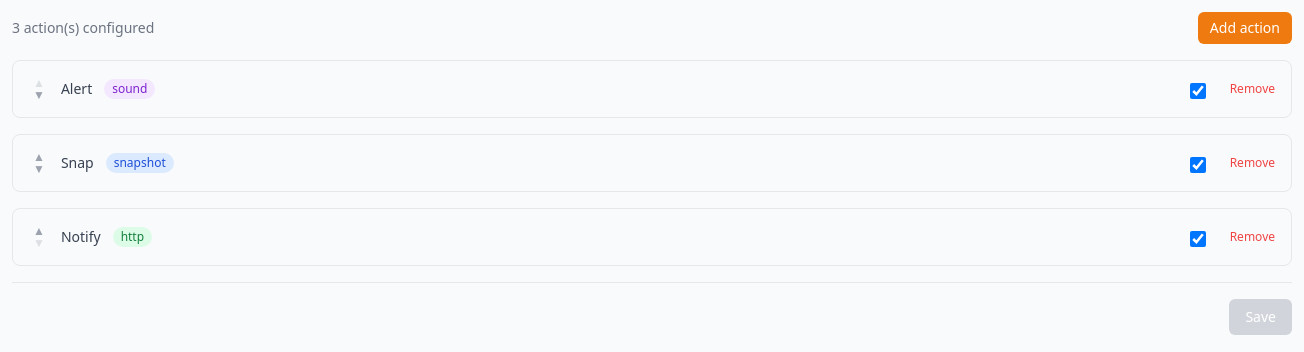
Test case: ActionsTab reorder › moves first action down when clicking its down button
Click the button labelled "▼" in the row of "sound" at (39, 95), box [29, 89, 49, 101]
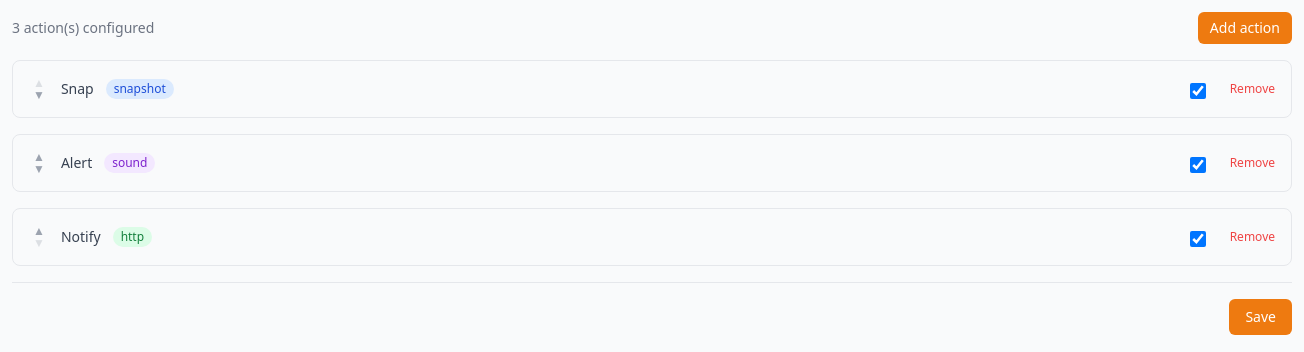
Expected: the button "Notify" is shown, [61, 227, 101, 247]
Now the button "Snap" is shown, box [61, 79, 94, 99]
Now the button "Alert" is shown, box [61, 153, 92, 173]
